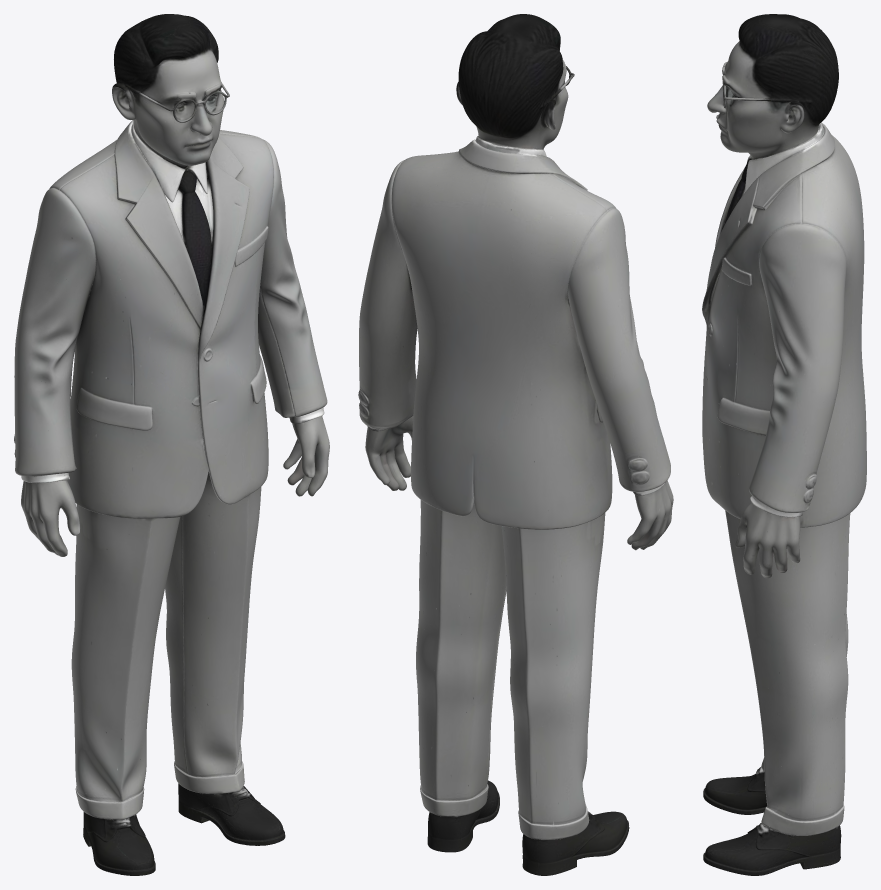
File: alejandro.glb
3 views of the same model, side by side, from view 1: azimuth 30°, elevation 25°; view 2: azimuth 150°, elevation 25°; view 3: azimuth 270°, elevation 25° (orthographic).
Bounding box in the file's own units: 0.4546 × 1.17 × 0.2143.
Materials: 1 (1 with a texture image).
